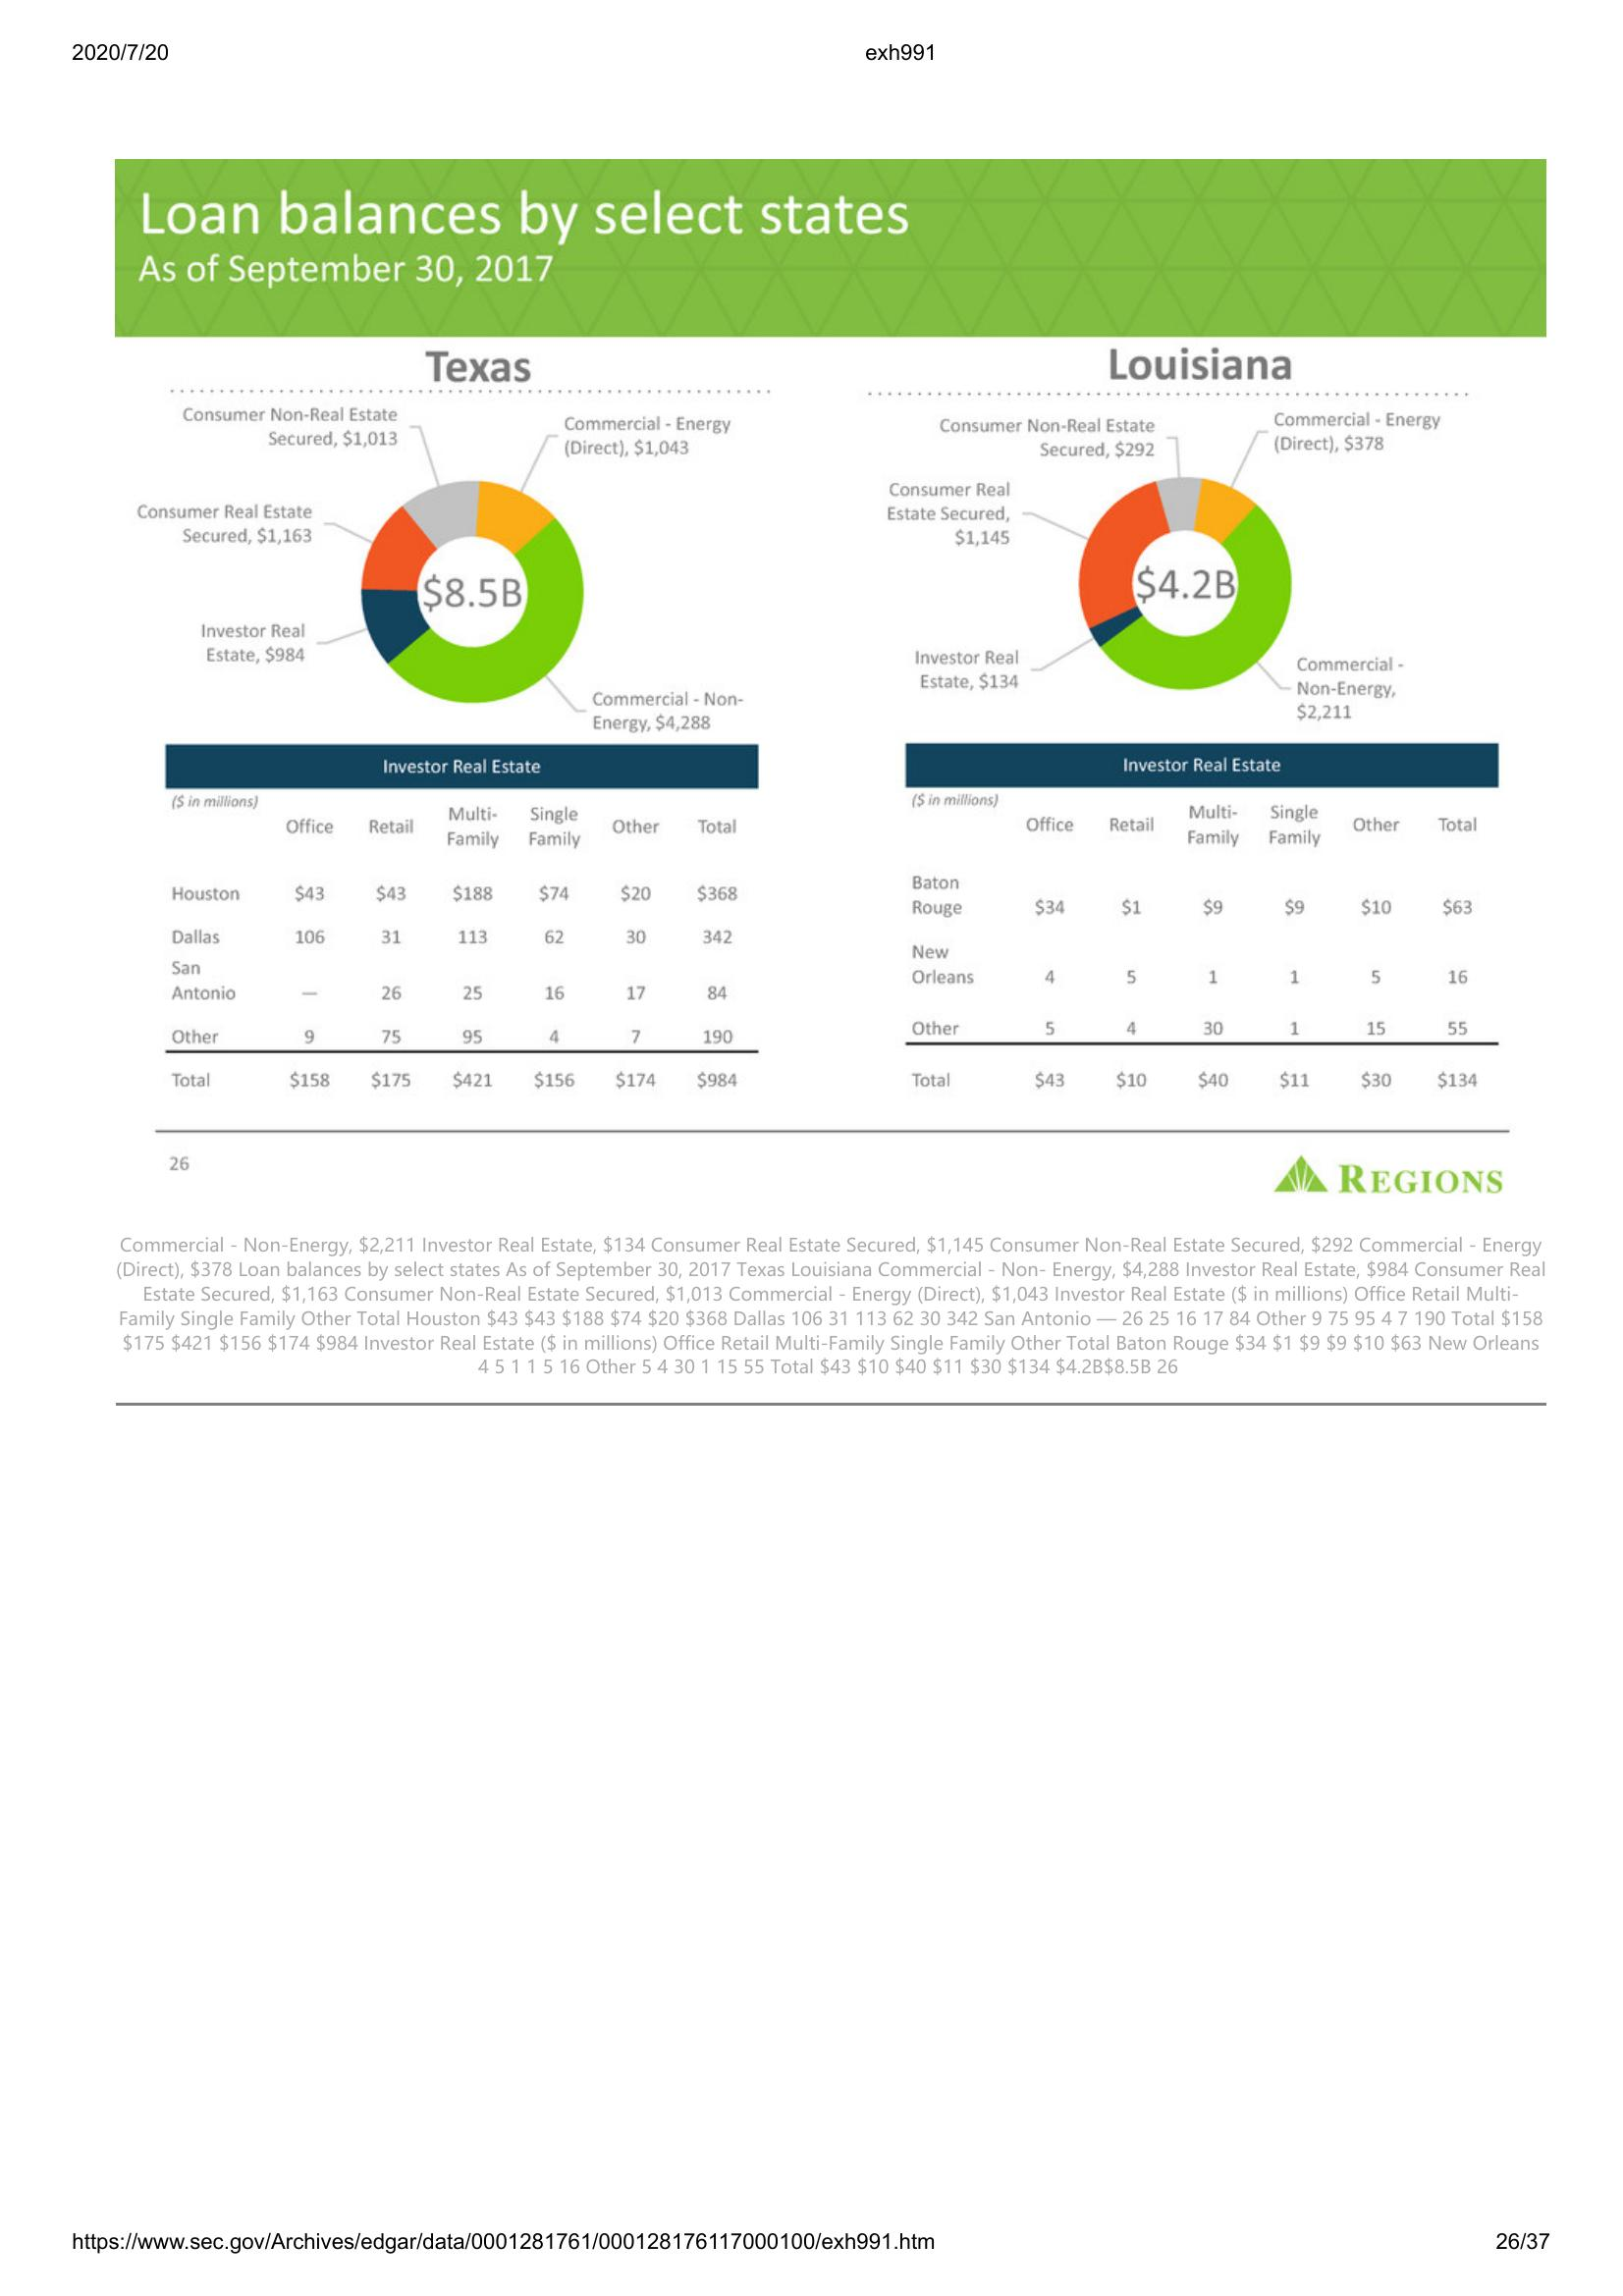table: (160, 734, 769, 1097), (898, 739, 1509, 1095)
